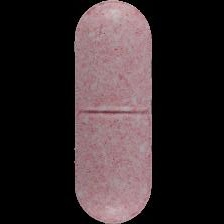58118-0268: (0, 0, 224, 224)
